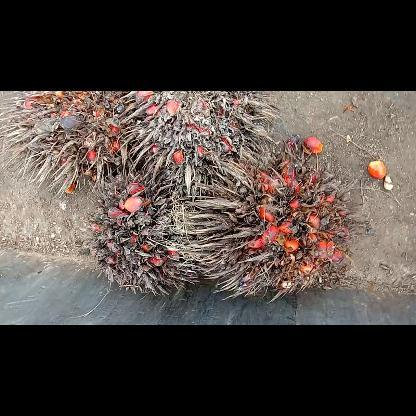Terlalu masak: (178, 130, 360, 310), (83, 154, 203, 302), (119, 91, 284, 197), (0, 90, 157, 198)
